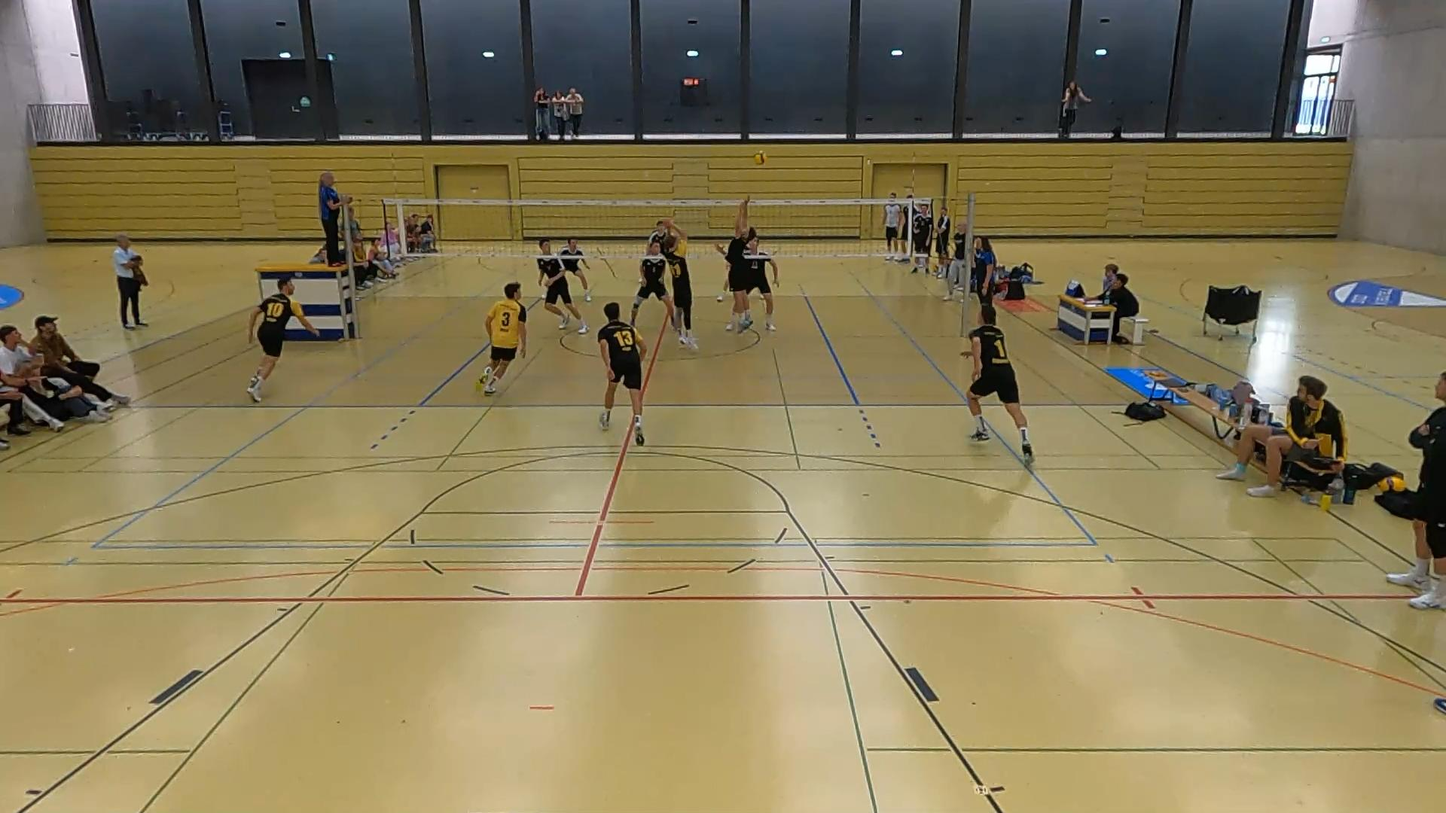alzata: (720, 187, 762, 339)
